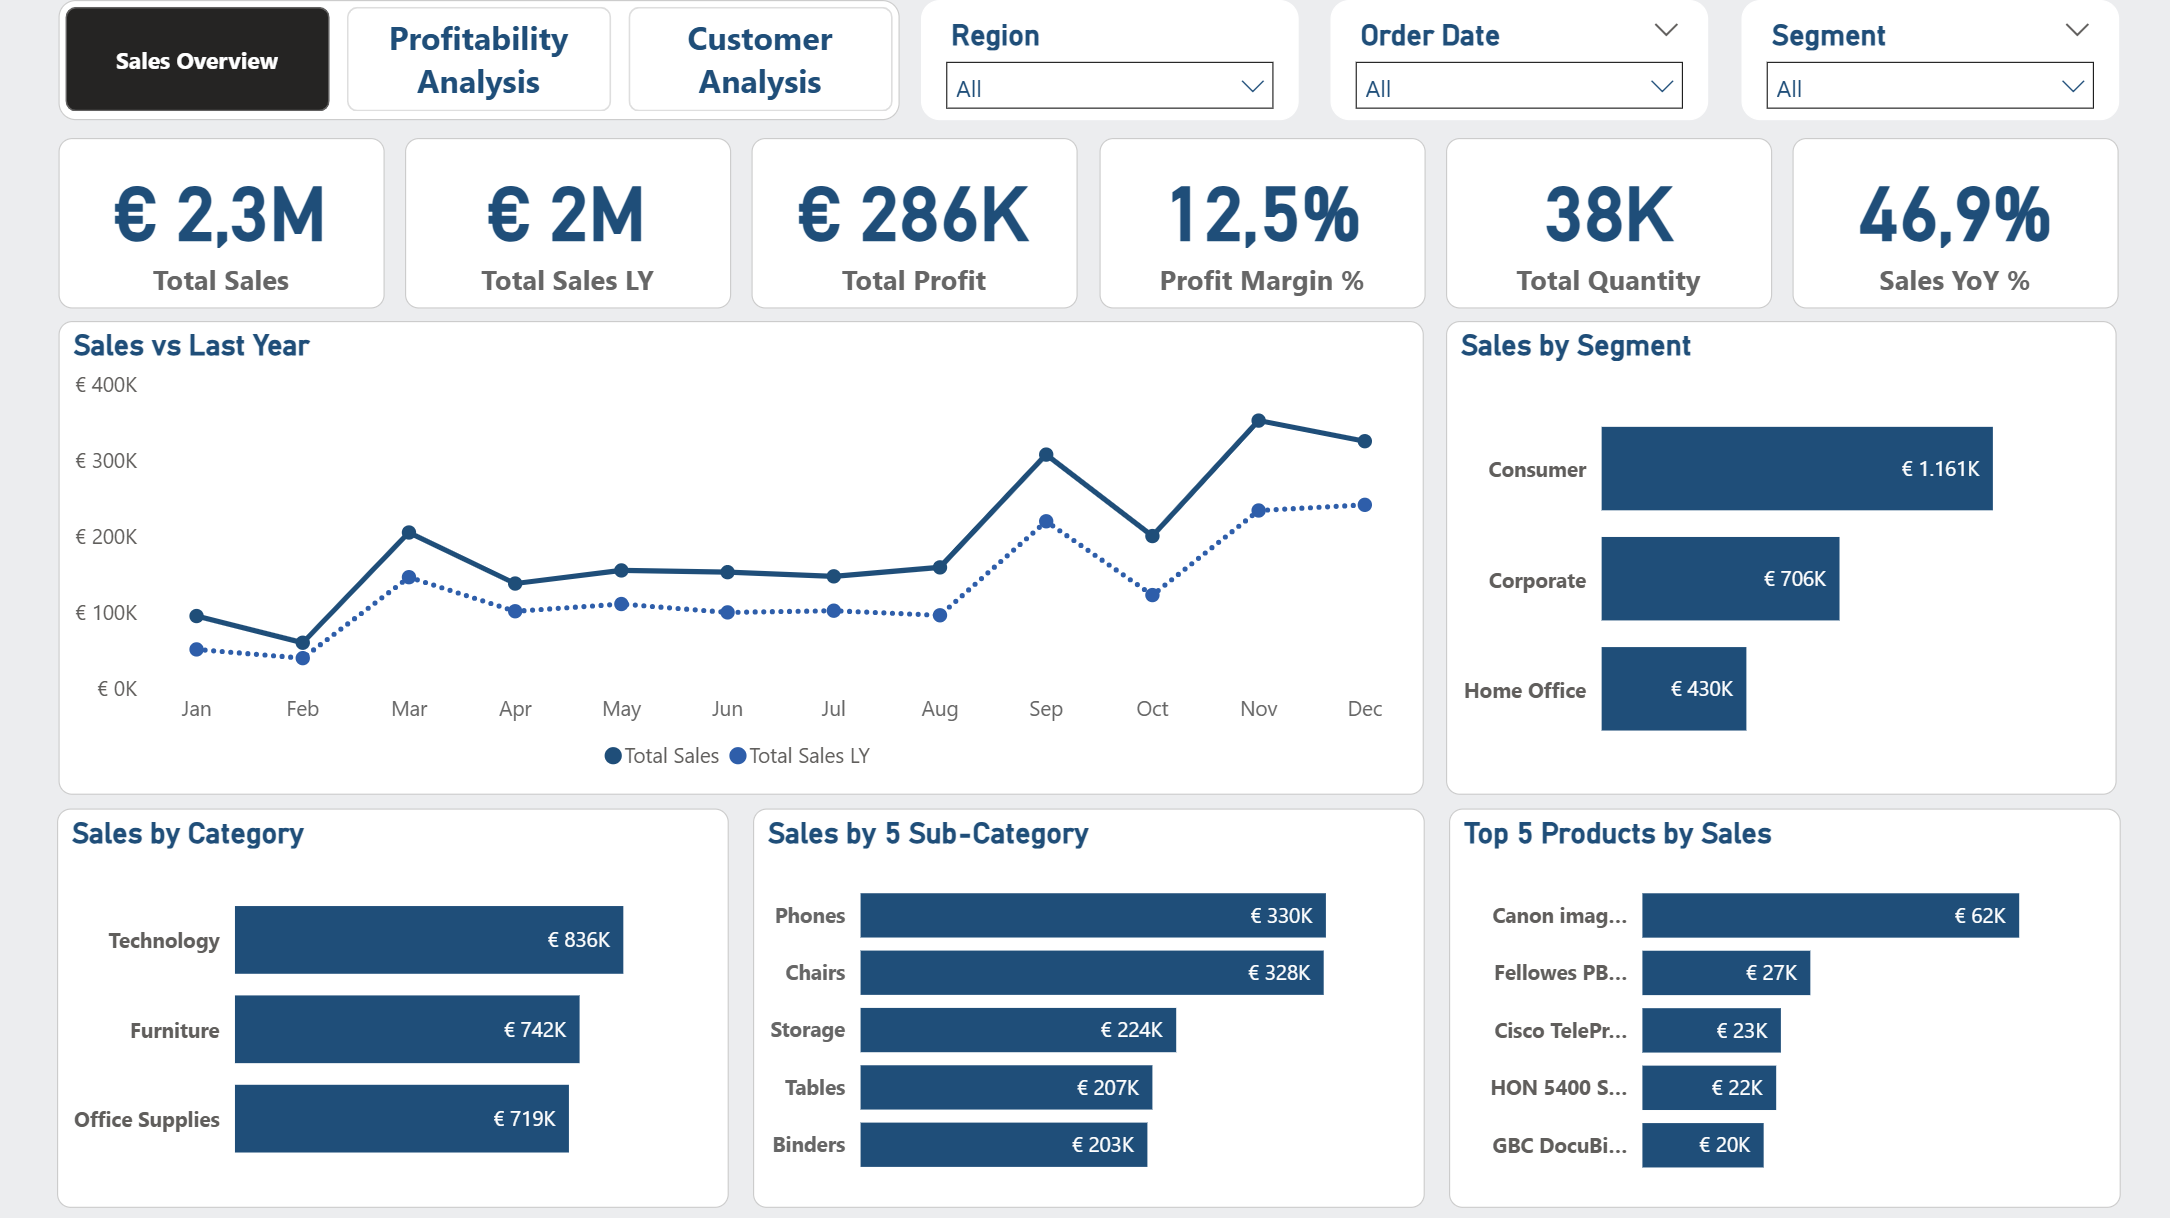

The dashboard page shown, as its layout file describes it:
{"tool":"powerbi","page":{"name":"Sales  Overview","canvas":[1280,720],"ordinal":0},"visuals":[{"type":"card","fields":{"Values":["_Measures.Total Sales"]},"box":[41,85.9,190.1,99.6],"z":0},{"type":"card","fields":{"Values":["_Measures.Total Profit"]},"box":[445.1,85.9,190.1,99.6],"z":1000},{"type":"card","fields":{"Values":["_Measures.Total Sales LY"]},"box":[243.1,85.9,190.1,99.6],"z":2000},{"type":"card","fields":{"Values":["_Measures.YoY Growth %"]},"box":[1051.3,85.9,190.1,99.6],"z":3000},{"type":"clusteredBarChart","title":"Sales by Category","fields":{"Category":["Dim_Product.Category"],"Y":["_Measures.Total Sales"]},"box":[40.6,476.2,391,232.7],"z":4000},{"type":"lineChart","title":"Sales  vs Last Year ","fields":{"Y":["_Measures.Total Sales","_Measures.Sales LY"],"Category":["Dim_Date.Month"]},"box":[41.3,192.2,795,276.2],"z":5000},{"type":"clusteredBarChart","title":"Sales by 5 Sub-Category","fields":{"Category":["Dim_Product.Sub-Category"],"Y":["_Measures.Total Sales"]},"box":[445.9,476.2,391,232.4],"z":6000},{"type":"slicer","fields":{"Values":["Fact_Sales.Order Date"]},"box":[782.2,5.1,220.3,70],"z":7000},{"type":"slicer","fields":{"Values":["Dim_Customer.Segment"]},"box":[1021.1,5.1,220.3,70],"z":8000},{"type":"slicer","fields":{"Values":["Dim_Geography.Region"]},"box":[543.2,5.1,220.3,70],"z":9000},{"type":"card","fields":{"Values":["_Measures.Profit Margin %"]},"box":[647.2,85.9,190.1,99.6],"z":10000},{"type":"card","fields":{"Values":["_Measures.Total Quantity"]},"box":[849.2,85.9,190.1,99.6],"z":11000},{"type":"clusteredBarChart","title":"Top 5 Products by Sales","fields":{"Y":["_Measures.Total Sales"],"Category":["Dim_Product.Product Name"]},"box":[851.3,476.2,391,232.7],"z":12000},{"type":"pageNavigator","box":[41.4,4.8,490,69.8],"z":13000},{"type":"clusteredBarChart","title":"Sales by Segment","fields":{"Y":["_Measures.Total Sales"],"Category":["Dim_Customer.Segment"]},"box":[849.5,192,390.9,276.3],"z":14000}]}

Visuals, with their boxes in screenshot pixels (x1, y1, x2, y2), scaled from the page's 1280x720 canvas onto the 2170x1218 screenshot:
card - _Measures.Total Sales: <region>70, 145, 392, 314</region>
card - _Measures.Total Profit: <region>755, 145, 1077, 314</region>
card - _Measures.Total Sales LY: <region>412, 145, 734, 314</region>
card - _Measures.YoY Growth %: <region>1782, 145, 2105, 314</region>
"Sales by Category" clusteredBarChart: <region>69, 806, 732, 1199</region>
"Sales  vs Last Year " lineChart: <region>70, 325, 1418, 792</region>
"Sales by 5 Sub-Category" clusteredBarChart: <region>756, 806, 1419, 1199</region>
slicer - Fact_Sales.Order Date: <region>1326, 9, 1700, 127</region>
slicer - Dim_Customer.Segment: <region>1731, 9, 2105, 127</region>
slicer - Dim_Geography.Region: <region>921, 9, 1294, 127</region>
card - _Measures.Profit Margin %: <region>1097, 145, 1419, 314</region>
card - _Measures.Total Quantity: <region>1440, 145, 1762, 314</region>
"Top 5 Products by Sales" clusteredBarChart: <region>1443, 806, 2106, 1199</region>
pageNavigator: <region>70, 8, 901, 126</region>
"Sales by Segment" clusteredBarChart: <region>1440, 325, 2103, 792</region>
